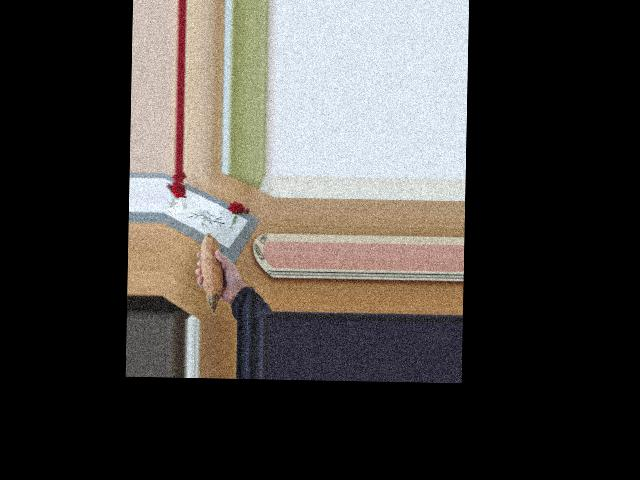sweet_potato: (196, 231, 231, 308)
